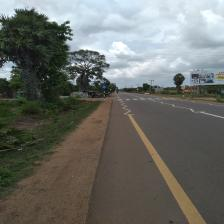crossing: (119, 94, 188, 106)
